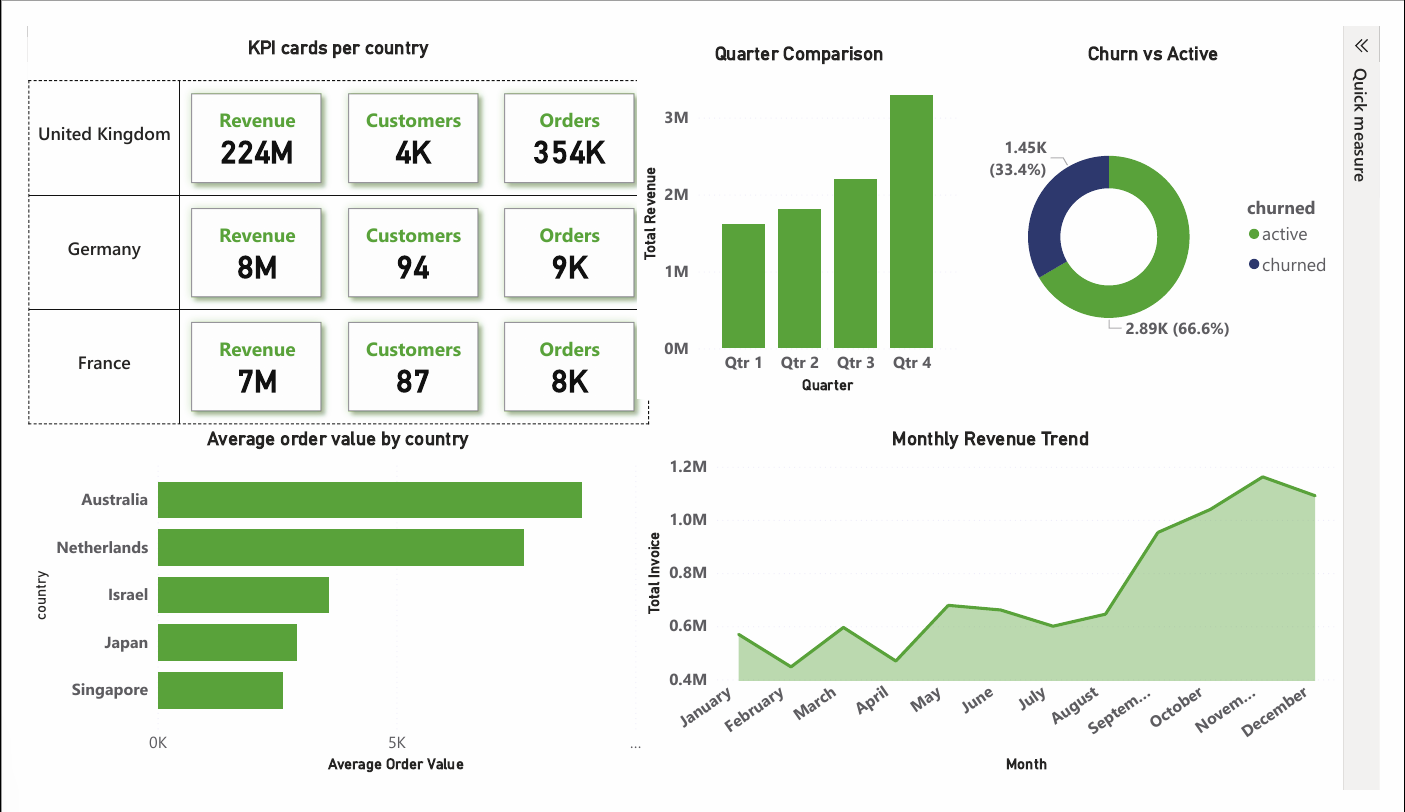

The dashboard page shown, as its layout file describes it:
{"tool":"powerbi","page":{"name":"Page 1","canvas":[1280,720],"ordinal":0},"visuals":[{"type":"donutChart","title":"Churn vs Active","fields":{"Category":["public fact_customer_behaviour.churned"],"Y":["CountNonNull(public fact_customer_behaviour.customer_id)"]},"box":[913.5,6.1,365.6,354.6],"z":0},{"type":"cardVisual","title":"KPI cards per country","fields":{"Data":["Sum(public fact_country_performance (2).total_revenue)","Sum(public fact_country_performance (2).num_customers)","Sum(public fact_country_performance (2).num_orders)"],"Rows":["public fact_country_performance (2).country"]},"box":[0,0,606.3,397],"z":1000},{"type":"barChart","title":"Average order value by country","fields":{"Y":["Sum(fact_country_performance.Average_order_value)"],"Category":["fact_country_performance.country"]},"box":[0,379,606.3,340.4],"z":2000},{"type":"areaChart","title":"Monthly Revenue Trend","fields":{"Category":["int_sales_analysis.invoice_date.Variation.Date Hierarchy.Month"],"Y":["Sum(int_sales_analysis.total_invoice)"]},"box":[597.4,379,682.1,340.4],"z":3000},{"type":"columnChart","title":"Quarter Comparison","fields":{"Category":["int_sales_analysis.invoice_date.Variation.Date Hierarchy.Quarter"],"Y":["Sum(int_sales_analysis.total_invoice)"]},"box":[593.1,6.1,316.7,344.8],"z":4000}]}

Visuals, with their boxes in screenshot pixels (x1, y1, x2, y2), scaled from the page's 1280x720 canvas onto the 1405x812 screenshot:
"Churn vs Active" donutChart: crop(1003, 7, 1404, 407)
"KPI cards per country" cardVisual: crop(0, 0, 666, 448)
"Average order value by country" barChart: crop(0, 427, 666, 811)
"Monthly Revenue Trend" areaChart: crop(656, 427, 1404, 811)
"Quarter Comparison" columnChart: crop(651, 7, 999, 396)
